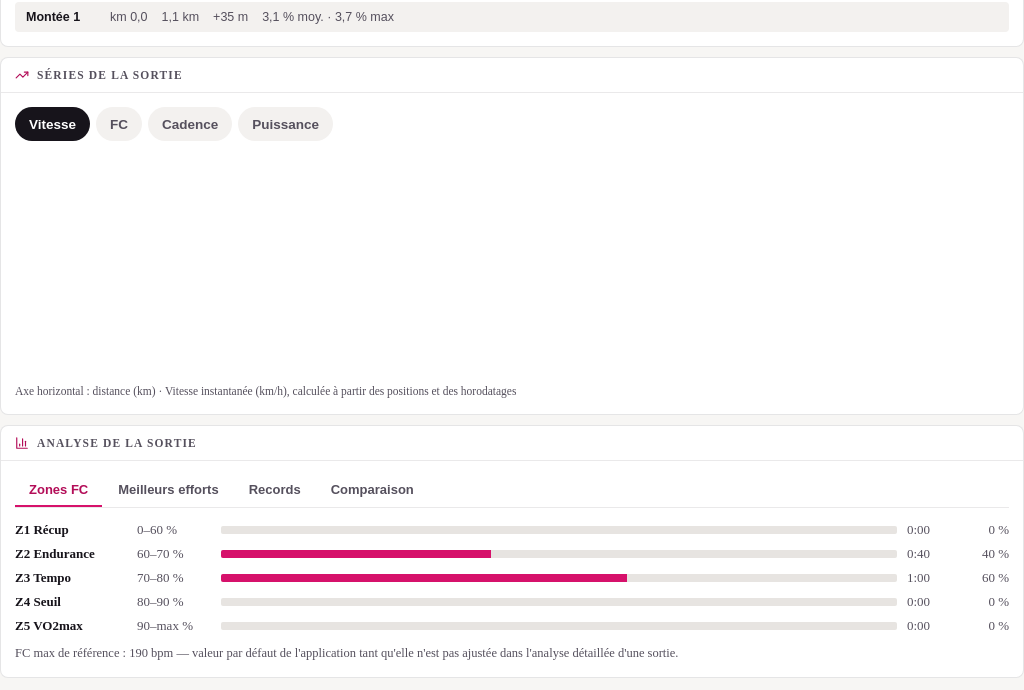
Test: CockpitDashboard — analyse › comparaison : liste une sortie similaire avec ses écarts
This screenshot has width=1024, height=690.
(page scrolled)
Click the tab "Comparaison".
click(372, 490)  # box [317,474,428,507]
(page scrolled)
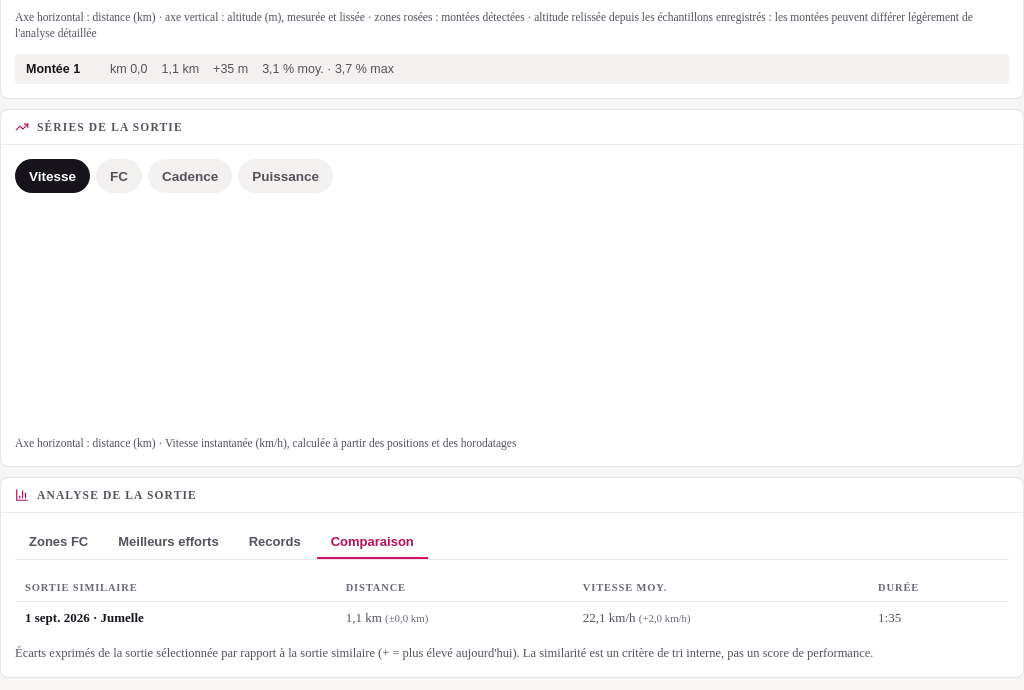
Result: the column heading "1 sept. 2026 · Jumelle" is shown at [15,601,336,634]
Result: the text "(+2,0 km/h)" is shown at [639,612,691,624]
